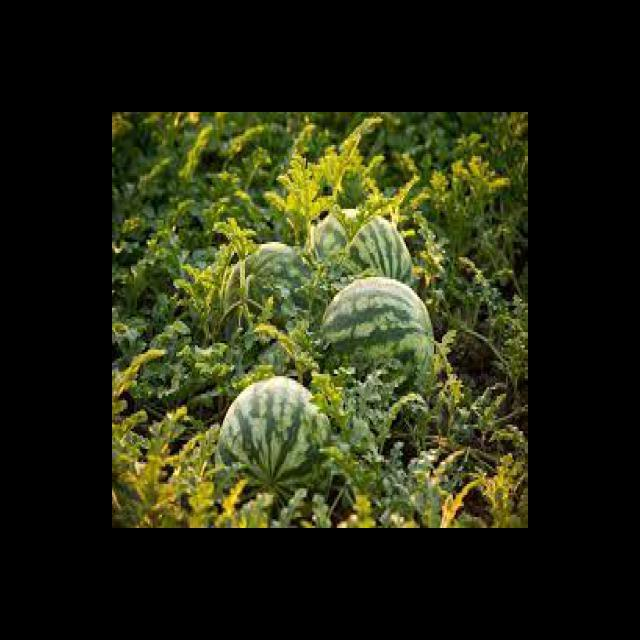watermelon: (318, 277, 436, 393)
